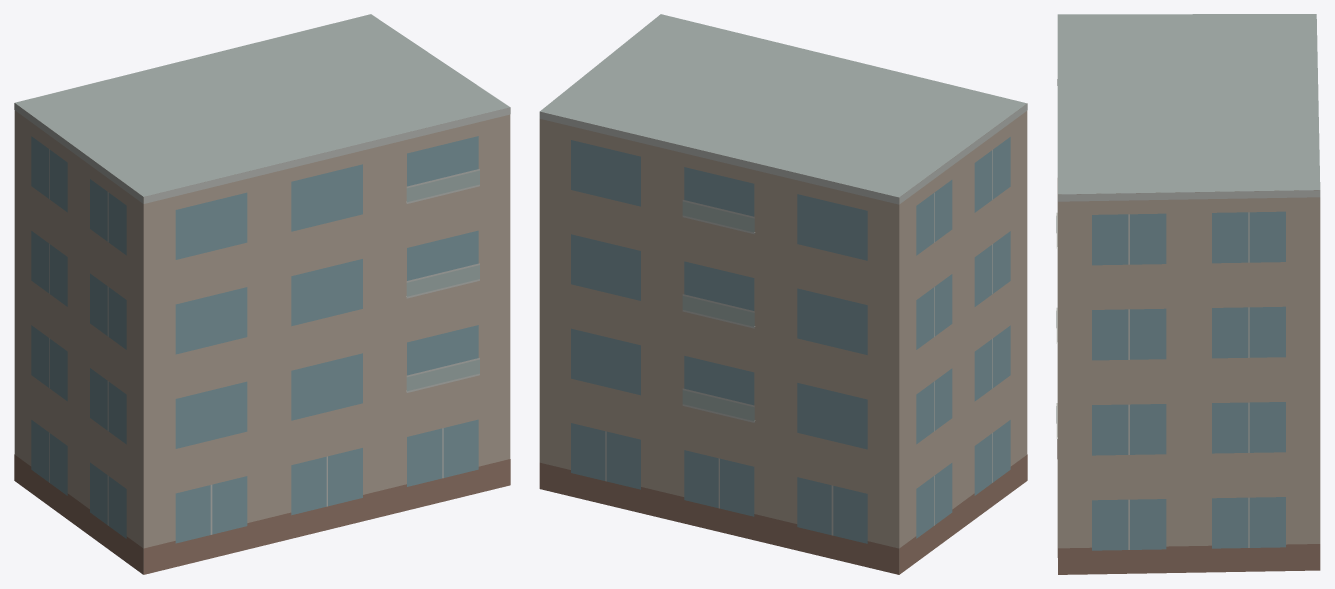
File: survey-upis-32982526.glb
The picture shows the model from 3 angles, left to right: view 1: azimuth 30°, elevation 25°; view 2: azimuth 150°, elevation 25°; view 3: azimuth 270°, elevation 25°; orthographic projection.
Visible parts, largest first — view 1: survey-upis-32982526.tmp; view 2: survey-upis-32982526.tmp; view 3: survey-upis-32982526.tmp.
Part boxes in pixels (x1,y1,x2,y2): survey-upis-32982526.tmp: [14, 14, 510, 574]; survey-upis-32982526.tmp: [539, 14, 1027, 574]; survey-upis-32982526.tmp: [1056, 14, 1320, 574].
Bounding box in the file's own units: 13.03 × 12.8 × 8.05.
